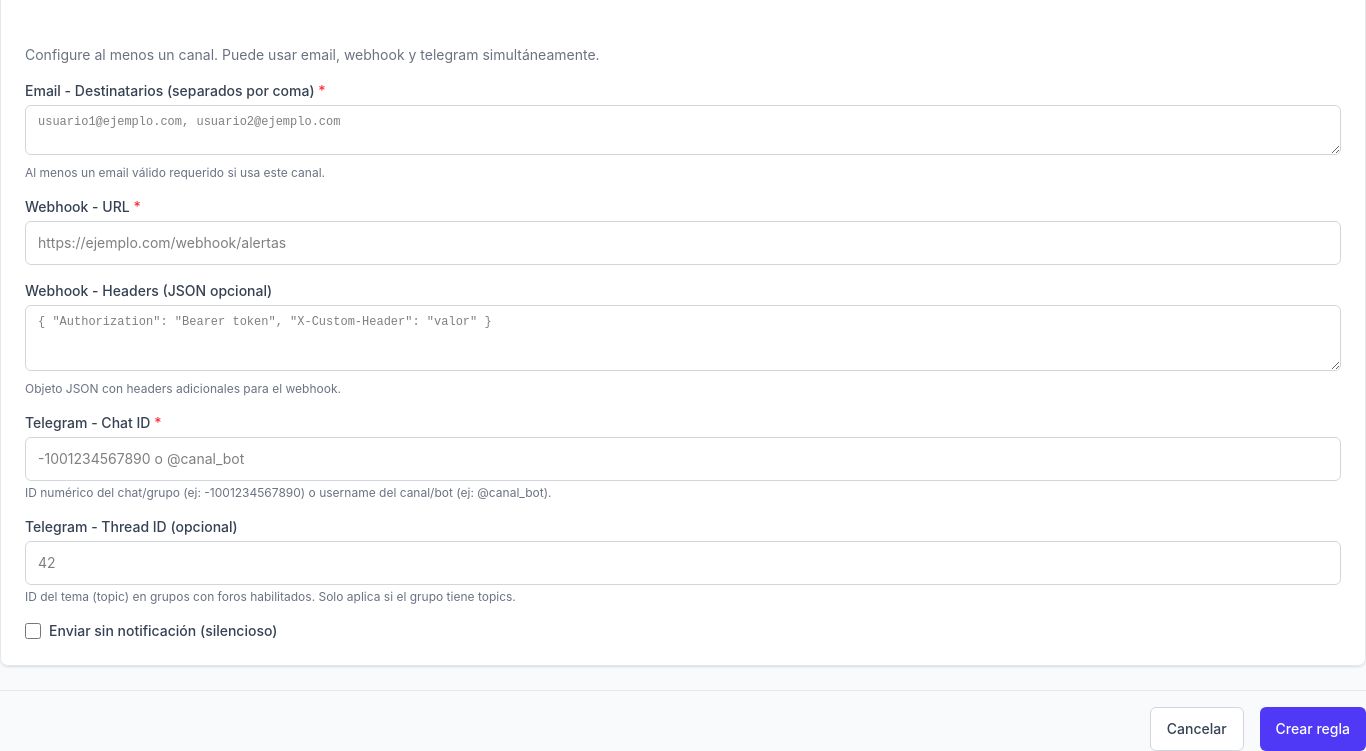
Test case: CreateRuleForm › validates required fields on submit
(page scrolled)
Click the button "Crear regla".
click(1313, 729)  # box [1260,707,1365,750]
(page scrolled)
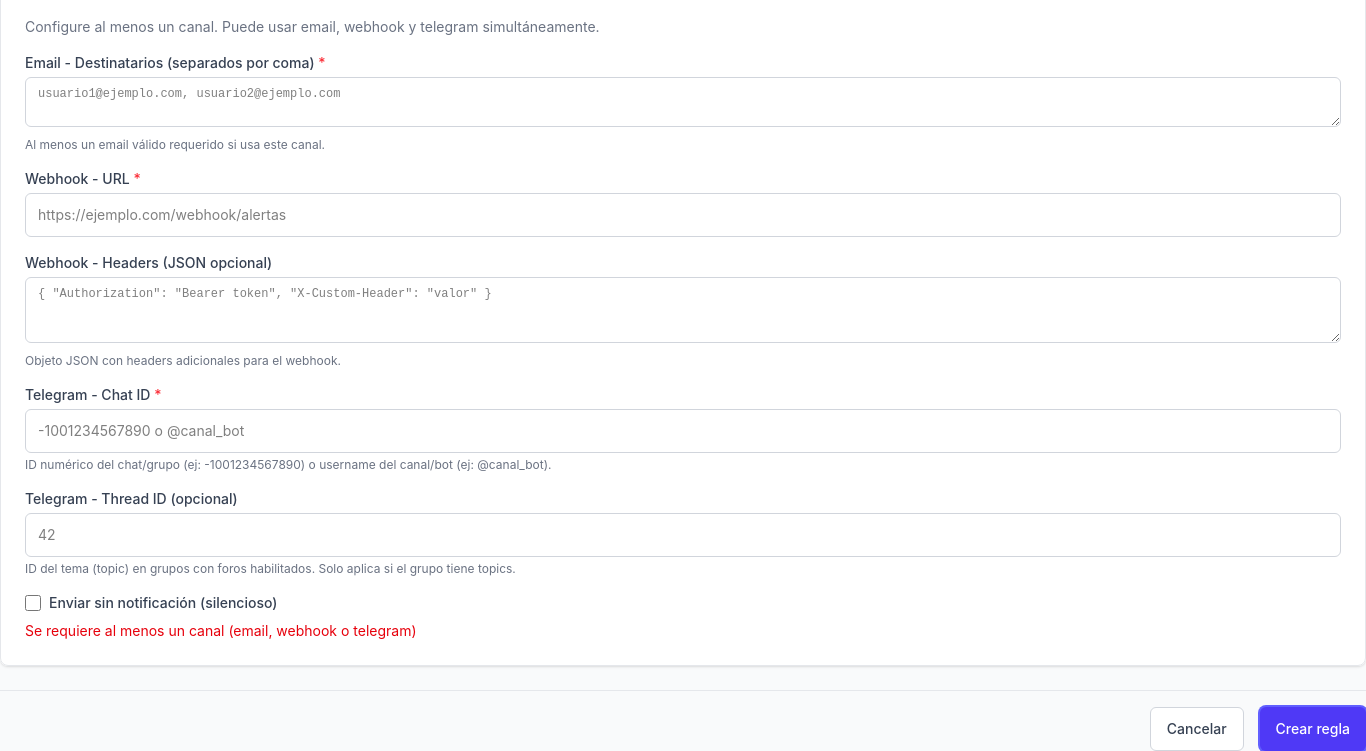
Result: the text "Se requiere al menos un canal (email, webhook o telegram)" is shown at [25,622,417,639]
